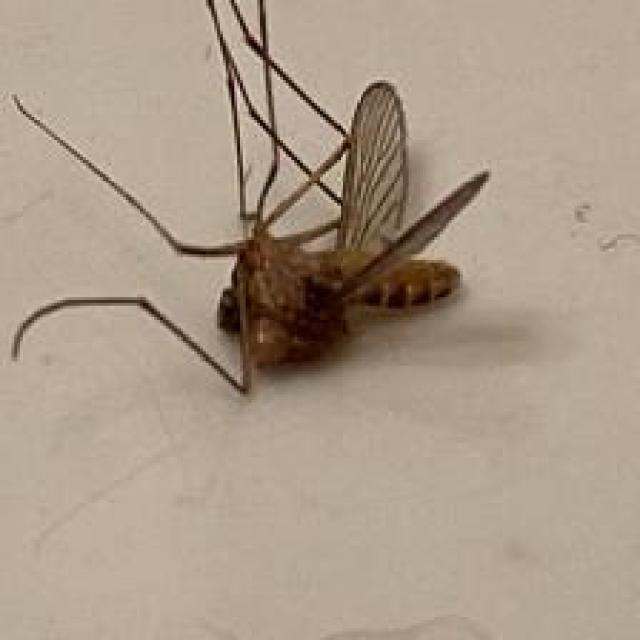Culex: (9, 0, 492, 397)
